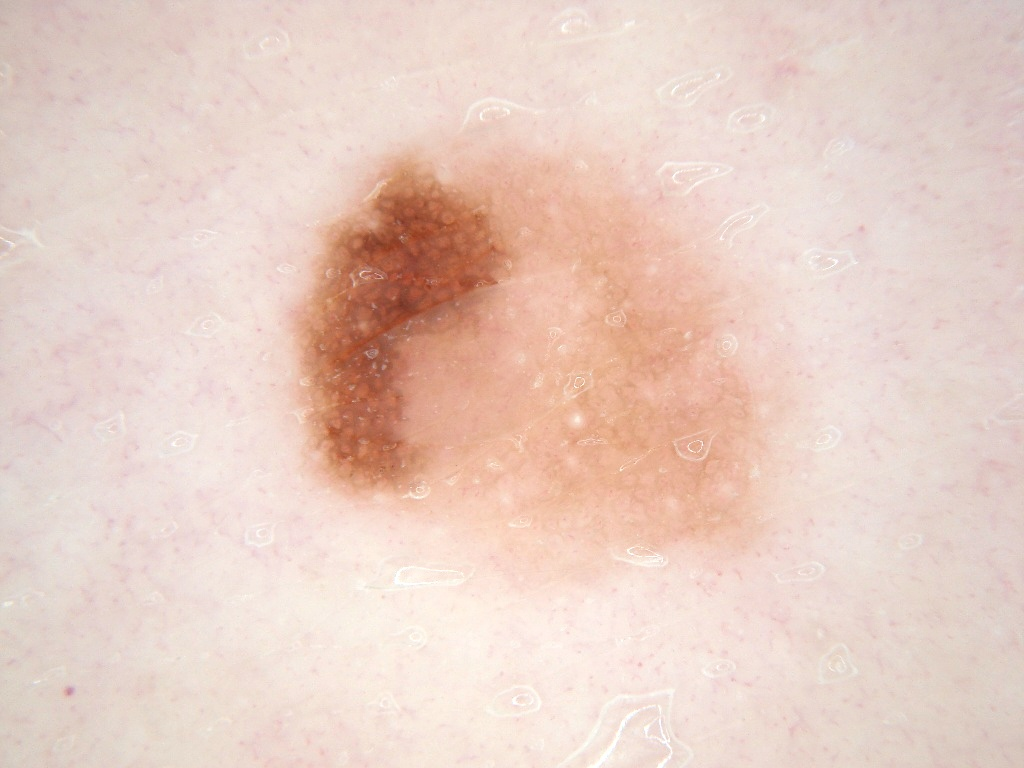Detected Lesion: (289, 144, 768, 563)
